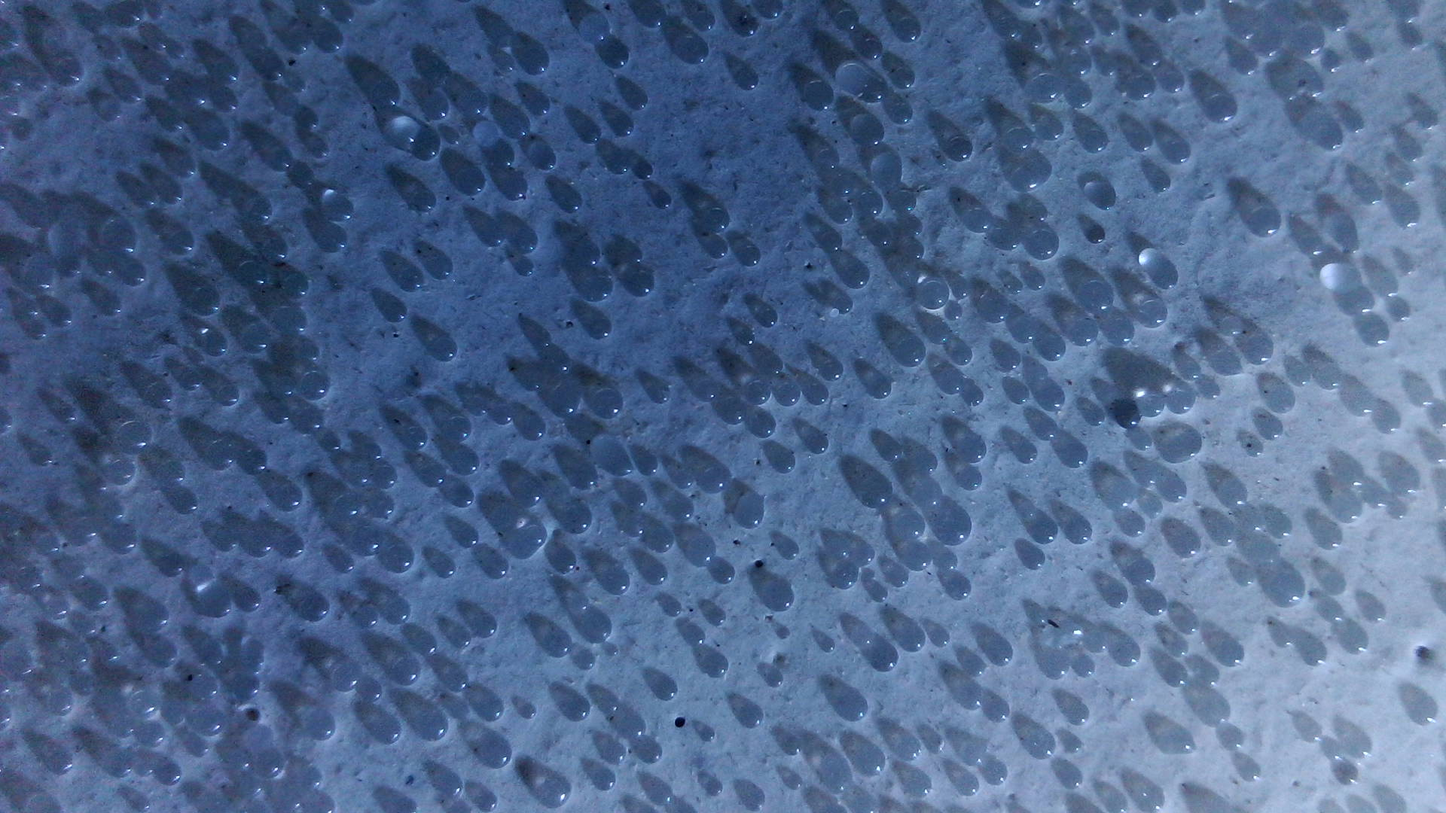GrassBeadSeg: (1078, 279, 1115, 312), (935, 511, 971, 544), (1268, 573, 1304, 604), (1011, 159, 1047, 190), (118, 423, 153, 452), (599, 446, 635, 474), (548, 386, 582, 415), (1025, 230, 1060, 258), (416, 710, 449, 739), (892, 336, 925, 365), (1247, 208, 1281, 235), (479, 738, 511, 766), (917, 280, 950, 307), (103, 225, 136, 252), (1163, 436, 1198, 461), (562, 506, 593, 534), (763, 583, 795, 610), (188, 288, 220, 315), (860, 480, 892, 507), (698, 465, 731, 491), (676, 37, 709, 63), (569, 242, 602, 268), (136, 604, 169, 630), (1313, 120, 1343, 148), (837, 693, 868, 720), (305, 711, 336, 738), (591, 390, 622, 417), (276, 309, 307, 336), (370, 81, 401, 108), (383, 545, 415, 571), (1205, 96, 1237, 122), (352, 528, 384, 554), (199, 123, 231, 149), (894, 513, 926, 539), (580, 275, 613, 300), (582, 613, 611, 641), (539, 778, 569, 805), (856, 748, 886, 775), (520, 47, 550, 74), (1036, 334, 1066, 361), (804, 83, 834, 110), (581, 15, 611, 42), (624, 269, 655, 295), (455, 167, 486, 193), (272, 484, 304, 509), (853, 120, 885, 145), (238, 261, 270, 286), (243, 531, 275, 556), (977, 297, 1010, 321), (1343, 290, 1376, 314), (687, 537, 715, 565), (1126, 73, 1155, 100), (1292, 31, 1321, 58), (868, 644, 898, 670), (298, 595, 329, 620), (298, 373, 329, 398), (1030, 75, 1061, 100), (331, 494, 363, 518), (735, 500, 763, 527), (1409, 698, 1437, 725), (391, 658, 420, 684), (501, 112, 530, 138), (1106, 318, 1135, 344), (1243, 337, 1272, 363), (371, 717, 401, 742), (1030, 517, 1058, 543), (1037, 383, 1065, 409), (422, 93, 450, 119), (914, 481, 942, 507), (602, 568, 631, 593), (601, 43, 630, 68), (330, 665, 359, 690), (1070, 319, 1099, 344), (195, 709, 224, 734), (1058, 443, 1088, 467), (450, 449, 480, 473), (645, 527, 675, 551), (243, 327, 273, 351), (232, 675, 259, 701), (719, 398, 746, 424), (1105, 484, 1132, 510), (1089, 184, 1117, 209), (120, 260, 148, 285), (1375, 410, 1403, 435), (428, 337, 457, 361), (840, 263, 869, 287), (442, 417, 471, 441), (476, 696, 505, 720), (319, 227, 348, 251), (958, 437, 987, 461), (1027, 732, 1054, 757), (397, 266, 424, 291), (743, 380, 770, 405), (1112, 641, 1140, 665), (897, 626, 925, 650), (82, 585, 110, 609), (149, 641, 177, 665), (1362, 321, 1390, 345), (111, 528, 139, 552), (132, 692, 160, 716), (1345, 392, 1373, 416), (191, 676, 220, 699), (479, 222, 508, 245), (411, 136, 440, 159), (545, 632, 572, 656), (520, 416, 547, 440), (1202, 700, 1229, 724), (1335, 498, 1362, 522), (1139, 301, 1166, 325), (26, 266, 53, 290), (426, 256, 453, 280), (1153, 266, 1180, 290), (571, 466, 599, 489), (517, 481, 545, 504), (108, 460, 136, 483), (1167, 389, 1195, 412), (1165, 730, 1193, 753), (904, 545, 933, 567), (1002, 129, 1031, 151), (201, 594, 230, 616), (1066, 518, 1091, 543), (202, 330, 227, 355), (502, 175, 528, 199), (750, 413, 776, 437), (1394, 203, 1420, 227), (488, 147, 514, 171), (894, 736, 921, 759), (945, 137, 972, 160), (296, 408, 323, 431), (244, 198, 271, 221), (1064, 53, 1091, 76), (947, 574, 972, 598), (385, 599, 410, 623), (57, 61, 82, 85), (282, 273, 307, 297), (183, 82, 208, 106), (262, 238, 287, 262), (119, 4, 144, 28), (1254, 544, 1279, 568), (1082, 129, 1108, 152), (410, 189, 436, 212), (1173, 532, 1199, 555), (668, 497, 694, 520), (831, 564, 857, 587), (619, 715, 645, 738), (71, 520, 97, 543), (275, 790, 301, 813), (449, 484, 476, 506), (866, 375, 893, 397), (420, 464, 447, 486), (325, 198, 352, 220), (1393, 471, 1420, 493), (284, 29, 311, 51), (965, 210, 993, 231), (243, 449, 267, 473), (1222, 483, 1246, 507), (266, 148, 290, 172), (987, 641, 1012, 664), (1218, 642, 1243, 665), (157, 761, 182, 784), (258, 752, 283, 775), (1271, 388, 1294, 413), (210, 445, 235, 468), (199, 642, 224, 665), (825, 769, 850, 792), (238, 776, 263, 799), (1210, 522, 1235, 545), (1117, 405, 1140, 430), (1141, 393, 1164, 418), (551, 549, 577, 571), (1165, 141, 1191, 163), (278, 534, 304, 556), (442, 669, 468, 691), (140, 723, 166, 745), (1161, 478, 1187, 500), (148, 384, 174, 406), (1216, 353, 1242, 375), (167, 231, 194, 252), (773, 384, 801, 404), (438, 772, 462, 795), (984, 761, 1008, 784), (958, 685, 982, 708), (703, 654, 728, 676), (557, 190, 582, 212), (1142, 592, 1167, 614), (174, 491, 199, 513), (532, 148, 557, 170), (513, 229, 538, 251), (464, 92, 489, 114), (260, 59, 285, 81), (703, 208, 728, 230), (563, 592, 588, 614), (521, 523, 546, 545), (563, 698, 589, 719), (1129, 562, 1155, 583), (1344, 629, 1367, 652), (772, 449, 795, 472), (859, 193, 882, 216), (695, 379, 718, 402), (985, 698, 1009, 720), (896, 19, 920, 41), (319, 28, 343, 50), (374, 468, 398, 490), (347, 464, 371, 486), (517, 368, 541, 390), (1161, 70, 1185, 92), (1072, 24, 1096, 46), (643, 562, 668, 583), (160, 463, 185, 484), (889, 102, 914, 123), (216, 62, 241, 83), (732, 16, 757, 37), (992, 229, 1019, 248), (908, 774, 931, 796), (456, 525, 479, 547), (111, 753, 134, 775), (66, 644, 89, 666), (371, 496, 394, 518), (404, 428, 427, 450), (996, 18, 1019, 40), (942, 372, 965, 394), (1013, 321, 1036, 343), (653, 678, 677, 699), (587, 316, 611, 337), (1059, 766, 1083, 787), (383, 300, 407, 321), (996, 349, 1020, 370), (835, 9, 859, 30), (36, 532, 60, 553), (545, 353, 569, 374), (1043, 657, 1068, 677), (1233, 54, 1258, 74), (146, 62, 171, 82), (50, 691, 72, 713), (73, 674, 95, 696), (1007, 383, 1029, 405), (473, 615, 496, 636), (1121, 515, 1144, 536), (1140, 788, 1163, 809), (486, 556, 509, 577), (121, 83, 144, 104), (291, 166, 314, 187), (892, 192, 915, 213), (706, 239, 729, 260), (1066, 86, 1089, 107), (805, 384, 829, 404), (641, 7, 665, 27), (16, 572, 40, 592), (606, 153, 631, 172), (740, 705, 762, 726), (612, 115, 634, 136), (51, 751, 73, 772), (1131, 130, 1153, 151), (1261, 419, 1283, 440), (1037, 419, 1059, 440), (358, 680, 380, 701), (491, 26, 513, 47), (816, 150, 838, 171), (830, 203, 852, 224), (903, 241, 925, 262), (1319, 369, 1341, 390), (1365, 488, 1387, 509), (1016, 442, 1038, 463), (916, 453, 938, 474), (882, 442, 904, 463), (639, 742, 662, 762), (1318, 528, 1341, 548), (217, 384, 240, 404), (859, 39, 882, 59), (1358, 184, 1381, 204), (174, 156, 197, 176), (99, 101, 122, 121), (892, 68, 915, 88), (869, 228, 892, 248), (737, 247, 760, 267), (161, 556, 185, 575), (1166, 665, 1187, 686), (580, 123, 601, 144), (1302, 75, 1323, 96), (1178, 614, 1199, 635), (593, 769, 615, 789), (1067, 703, 1089, 723), (1304, 644, 1326, 664), (50, 306, 72, 326), (806, 433, 828, 453), (100, 294, 122, 314), (239, 590, 261, 610), (529, 95, 551, 115), (820, 359, 842, 379), (1039, 120, 1061, 140), (112, 717, 134, 737), (163, 111, 185, 131), (216, 533, 238, 553), (865, 81, 887, 101), (832, 176, 854, 196), (1289, 367, 1311, 387), (1412, 388, 1434, 408), (1341, 469, 1363, 489), (958, 470, 981, 489), (355, 607, 378, 626), (414, 634, 437, 653), (605, 744, 628, 763), (958, 775, 979, 795), (1350, 737, 1371, 757), (737, 70, 758, 90), (950, 345, 972, 364), (929, 324, 951, 343), (597, 696, 619, 715), (744, 788, 764, 808), (1107, 586, 1127, 606), (451, 628, 471, 648), (299, 343, 319, 363), (336, 554, 356, 574), (1024, 549, 1045, 568), (639, 454, 660, 473), (831, 294, 852, 313), (901, 218, 922, 237), (1195, 666, 1217, 684), (693, 11, 713, 30), (218, 91, 237, 111), (364, 442, 383, 462), (270, 405, 289, 425), (274, 380, 293, 400), (1023, 29, 1042, 49), (1100, 16, 1119, 36), (1141, 47, 1160, 67), (1157, 4, 1176, 24), (1259, 39, 1278, 59), (478, 792, 497, 812), (820, 233, 841, 251), (491, 406, 512, 424), (1236, 566, 1254, 587), (1245, 514, 1263, 535), (715, 564, 734, 583), (230, 750, 249, 769), (302, 768, 321, 787), (190, 738, 209, 757), (1133, 433, 1152, 452), (856, 546, 875, 565), (1272, 517, 1290, 537), (1086, 407, 1106, 425), (0, 101, 20, 119), (0, 30, 20, 48), (298, 112, 318, 130), (96, 261, 116, 279), (181, 373, 201, 391), (1239, 20, 1257, 40), (436, 559, 455, 577), (1224, 730, 1243, 748), (889, 568, 908, 586), (758, 308, 777, 326), (1151, 175, 1170, 193), (1326, 575, 1344, 594), (310, 139, 329, 157), (1144, 498, 1163, 516), (163, 184, 182, 202), (651, 784, 670, 802), (139, 189, 157, 208), (29, 74, 48, 92), (3, 72, 22, 90), (62, 259, 81, 277), (1138, 469, 1157, 487), (1181, 363, 1200, 381), (1203, 382, 1222, 400), (1223, 318, 1242, 336), (1086, 225, 1105, 243), (855, 629, 874, 647), (829, 542, 848, 560), (763, 357, 782, 375), (780, 540, 798, 558), (675, 469, 693, 487), (1339, 765, 1357, 783), (1100, 59, 1118, 77), (1326, 606, 1344, 624), (628, 491, 646, 509), (1167, 638, 1186, 655), (324, 434, 341, 453), (1088, 636, 1107, 653), (634, 162, 654, 178), (576, 651, 594, 668), (1065, 735, 1082, 753), (783, 737, 801, 754), (29, 321, 47, 338), (1027, 271, 1044, 289), (67, 564, 85, 581), (534, 331, 551, 349), (1388, 504, 1406, 521), (471, 398, 487, 417), (1367, 605, 1384, 622), (966, 387, 983, 404), (1303, 724, 1320, 741), (654, 190, 671, 207), (51, 601, 68, 618), (79, 619, 96, 636), (1275, 631, 1292, 648), (1326, 745, 1343, 762), (968, 659, 985, 676), (871, 586, 888, 603), (786, 774, 803, 791), (35, 449, 53, 465), (630, 92, 648, 108), (59, 406, 77, 422), (106, 505, 124, 521), (102, 645, 120, 661), (1076, 659, 1093, 675), (932, 629, 948, 646), (688, 626, 704, 643), (623, 519, 639, 536), (14, 661, 31, 677), (1247, 442, 1264, 458), (939, 554, 956, 570), (1031, 610, 1048, 626), (927, 737, 944, 753), (965, 749, 982, 765), (625, 248, 642, 264), (651, 386, 669, 401), (737, 331, 755, 346), (517, 260, 533, 276), (1392, 306, 1408, 322), (1381, 283, 1397, 299), (946, 305, 962, 321), (953, 282, 969, 298), (1007, 279, 1023, 295), (1031, 207, 1047, 223), (708, 609, 725, 624), (135, 796, 150, 812), (138, 759, 153, 775), (498, 58, 514, 73), (768, 671, 783, 686), (91, 480, 106, 495), (707, 781, 723, 795), (1246, 763, 1260, 779), (337, 9, 353, 23), (700, 727, 715, 741), (293, 79, 307, 94), (23, 303, 38, 317), (1307, 243, 1321, 258), (666, 601, 681, 615), (108, 48, 122, 62), (154, 38, 168, 52), (172, 45, 185, 60), (521, 705, 536, 717), (446, 131, 459, 144), (822, 638, 835, 650), (1331, 22, 1344, 34), (777, 627, 790, 639), (607, 646, 619, 656), (1283, 91, 1294, 101), (1423, 120, 1434, 130), (1408, 40, 1418, 50), (1327, 64, 1338, 73), (1359, 54, 1370, 63), (1351, 125, 1361, 134), (1407, 154, 1417, 163), (1401, 177, 1411, 186), (1350, 246, 1357, 254), (1406, 267, 1413, 275)
